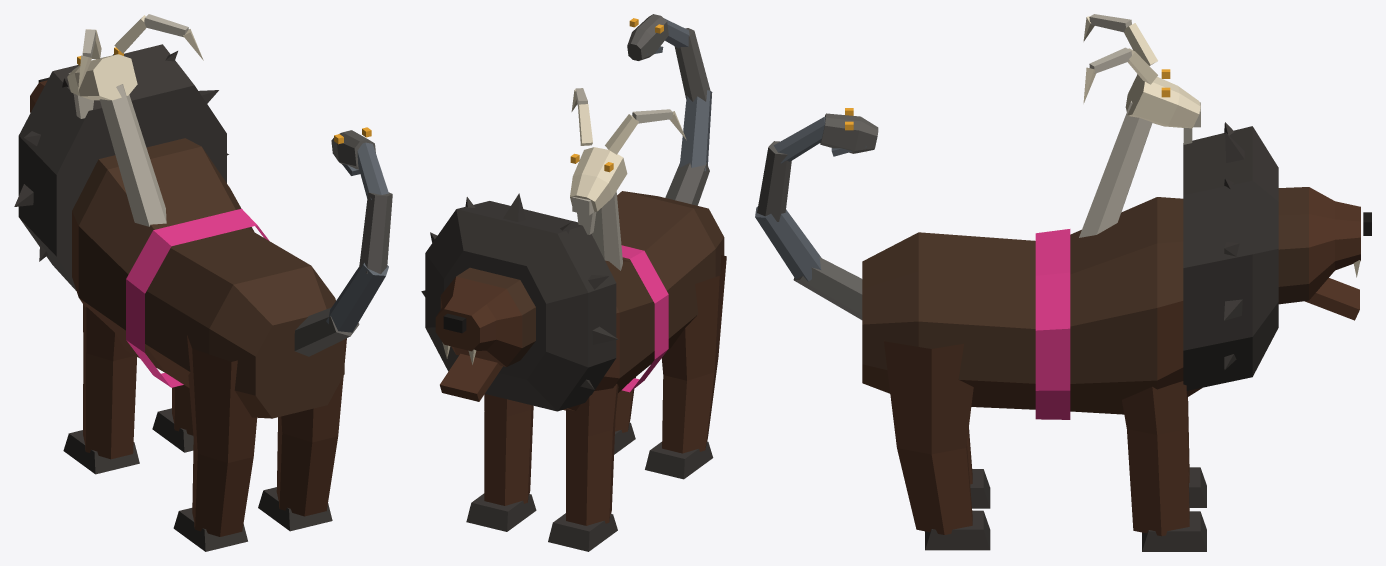
The model's file is EN_Chimera.fbx.
The picture shows the model from 3 angles, left to right: view 1: azimuth 30°, elevation 25°; view 2: azimuth 150°, elevation 25°; view 3: azimuth 270°, elevation 25°; orthographic projection. The views are drawn at different scales.
Visible parts, largest first — view 1: Body, LegL, ArmL, LegR, ArmR; view 2: Body, Head, LegL, ArmL, ArmR, LegR; view 3: Body, LegR, ArmR, Head, LegL, ArmL.
Part boxes in pixels (box(x1,y1,x2,y2)): Body: box(14, 14, 392, 418); LegL: box(173, 335, 257, 551); ArmL: box(63, 304, 139, 474); LegR: box(258, 338, 346, 531); ArmR: box(152, 385, 193, 452); Body: box(421, 14, 724, 411); Head: box(435, 267, 535, 401); LegL: box(645, 255, 726, 479); ArmL: box(548, 384, 618, 551); ArmR: box(466, 394, 536, 531); LegR: box(614, 377, 635, 454); Body: box(755, 14, 1278, 419); LegR: box(884, 340, 990, 550); ArmR: box(1122, 381, 1206, 551); Head: box(1278, 187, 1371, 320); LegL: box(967, 427, 990, 508); ArmL: box(1187, 397, 1206, 507).
Size of the model in its own units: 1.19 by 2.84 by 2.33.
